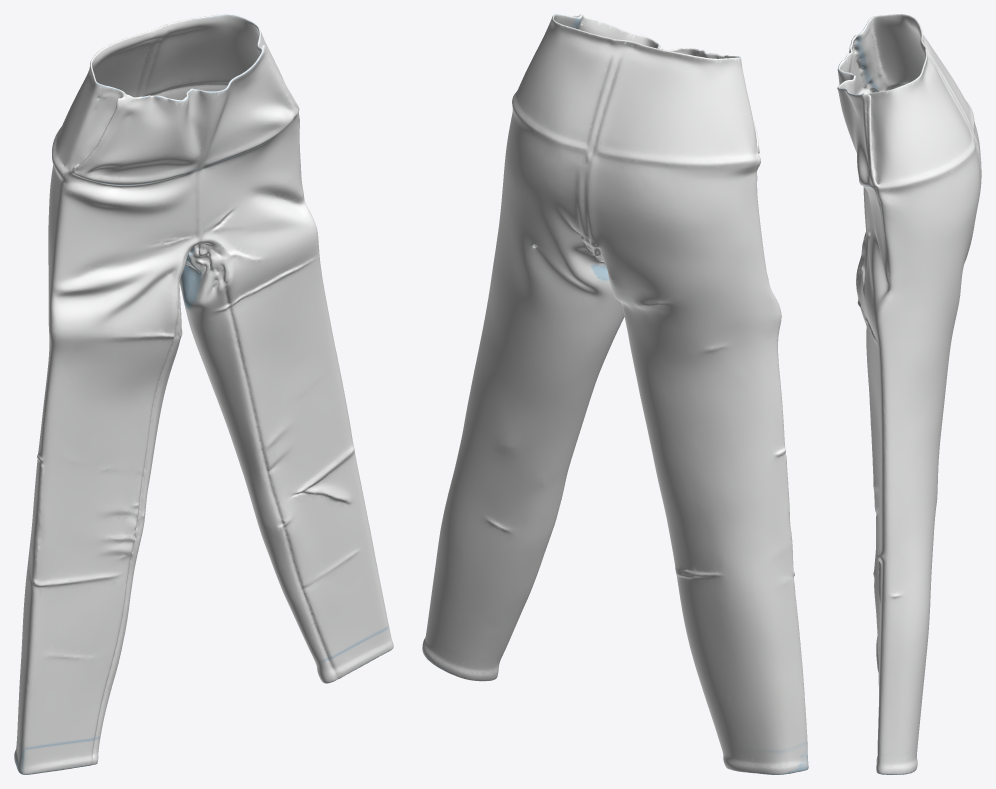
The model's file is blue_leggings.glb.
3 renders of one model, left to right at view 1: azimuth 30°, elevation 25°; view 2: azimuth 150°, elevation 25°; view 3: azimuth 270°, elevation 25°, orthographic. The views are drawn at different scales.
Bounding box in the file's own units: 1.06 × 1.9 × 0.3679.
Materials: 1 (1 with a texture image).
